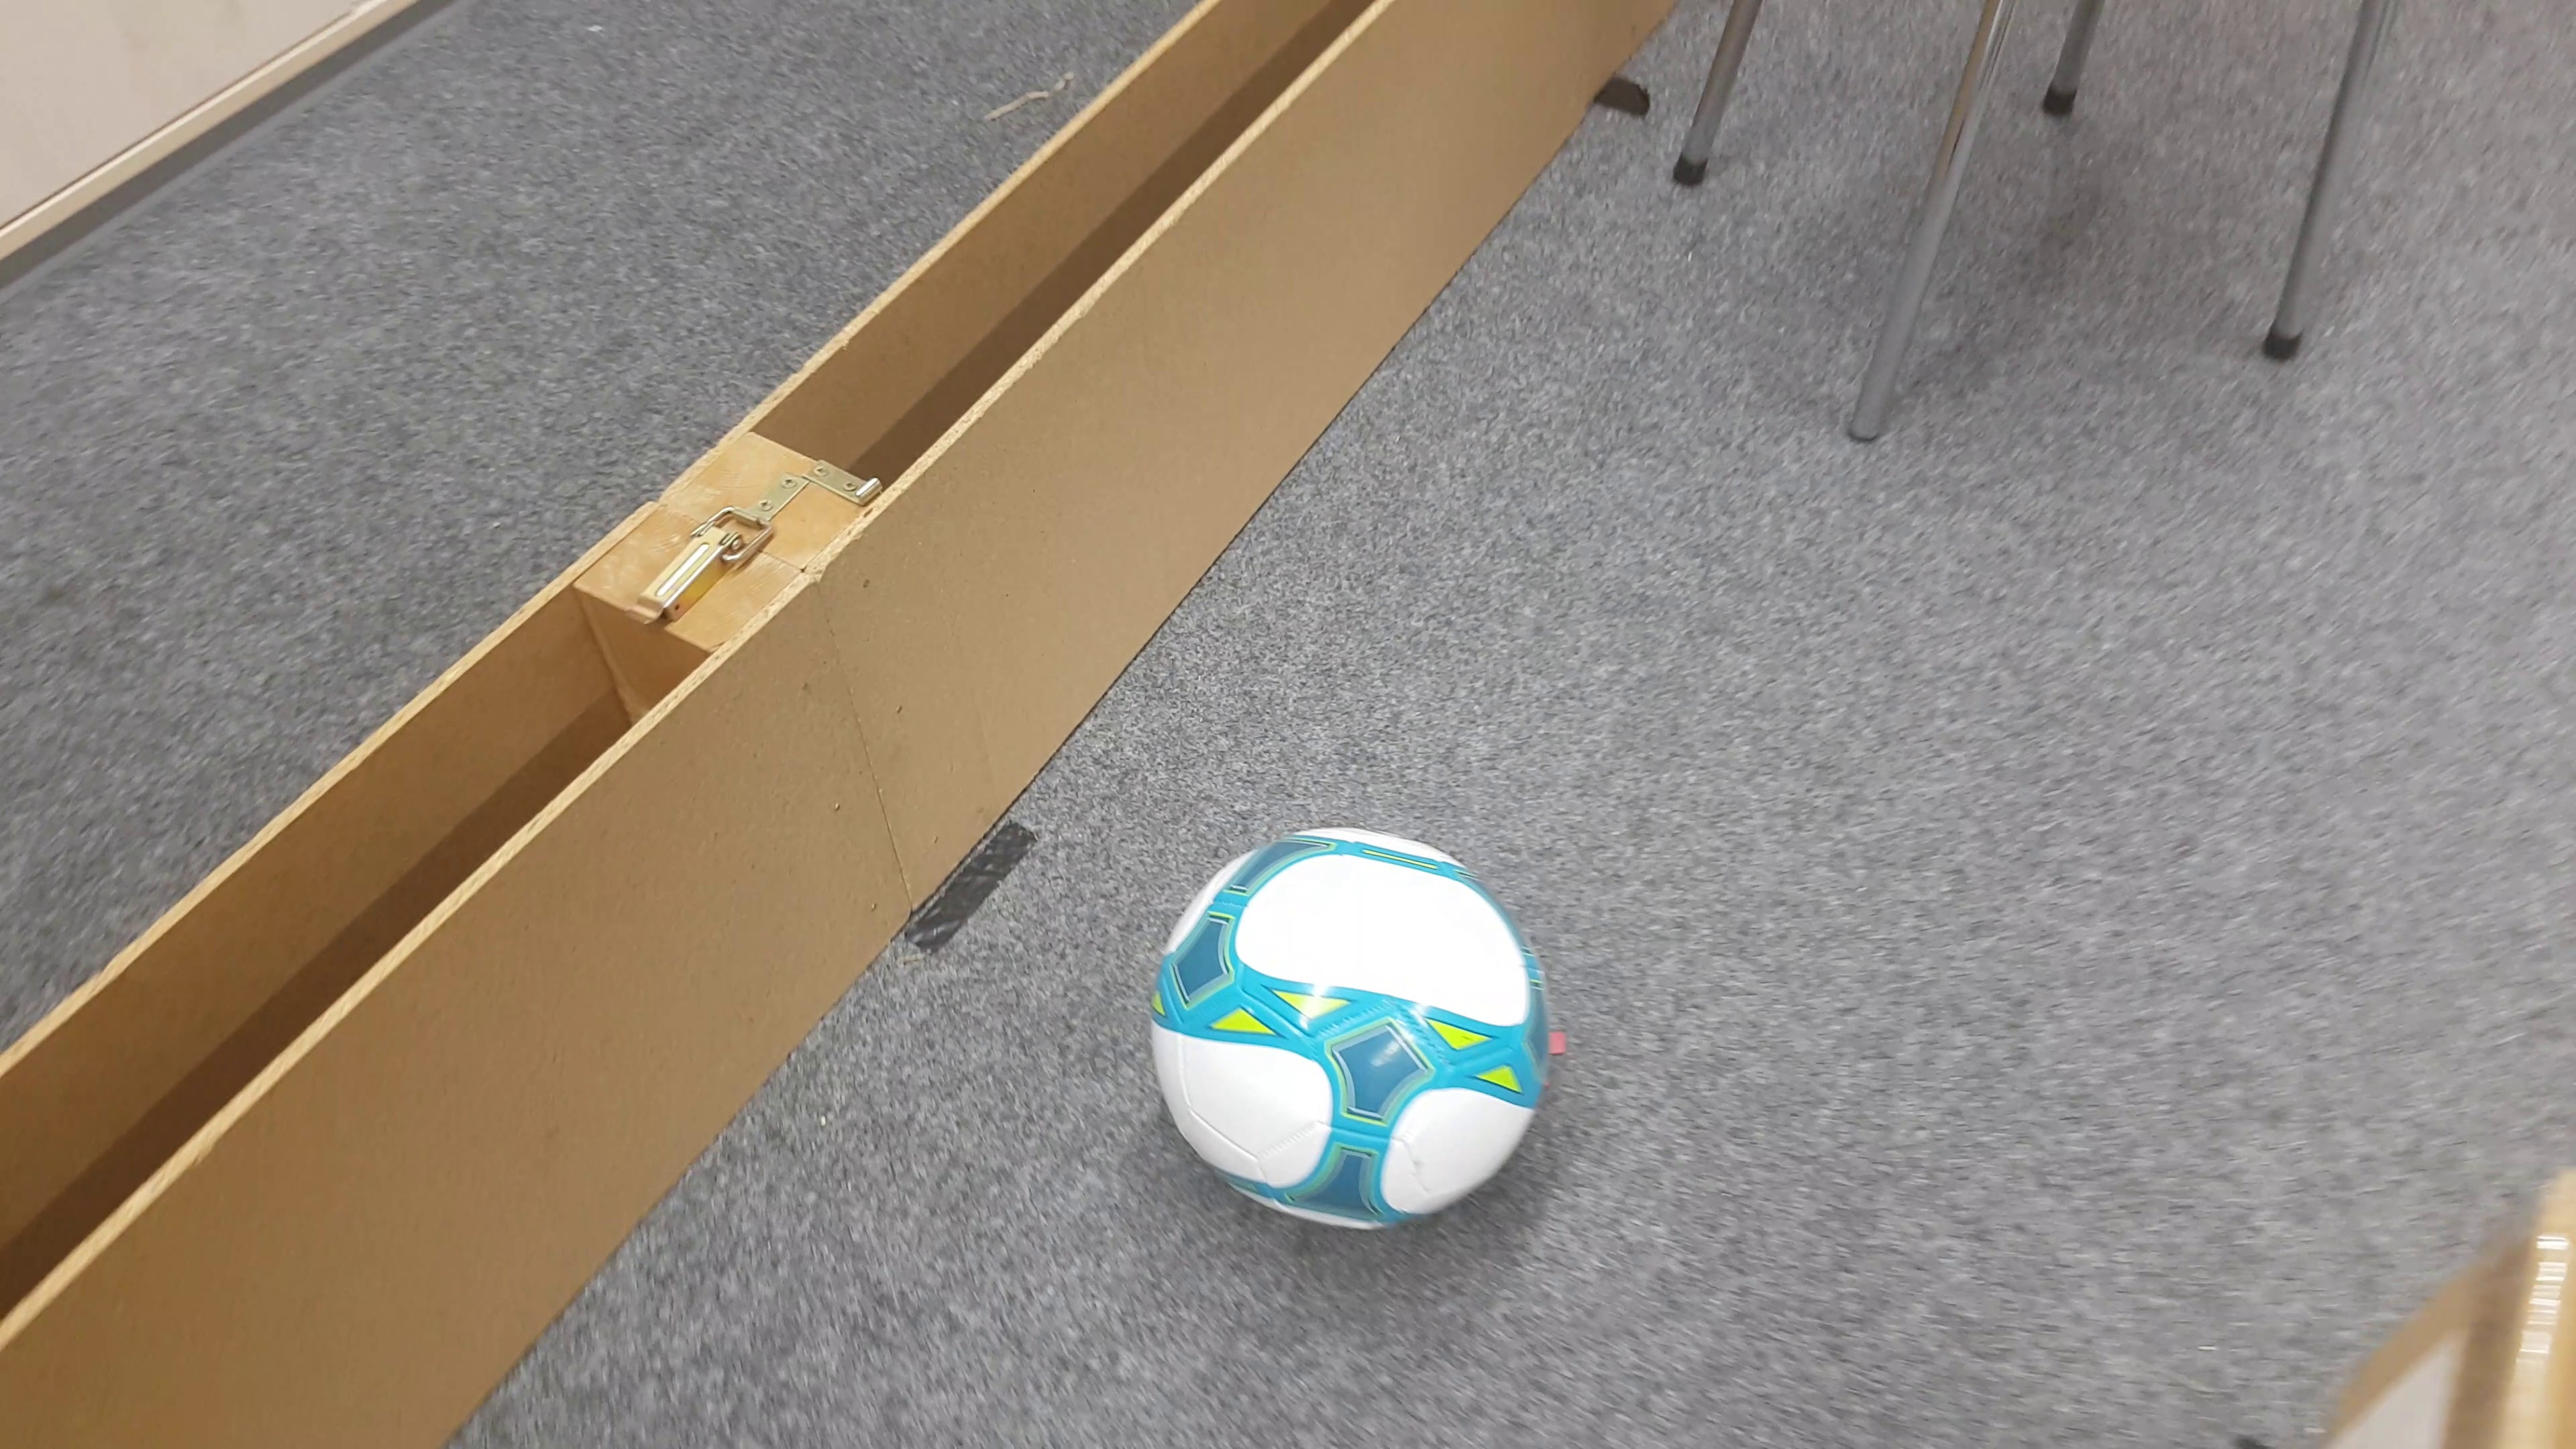kick: (1141, 823, 1550, 1230)
